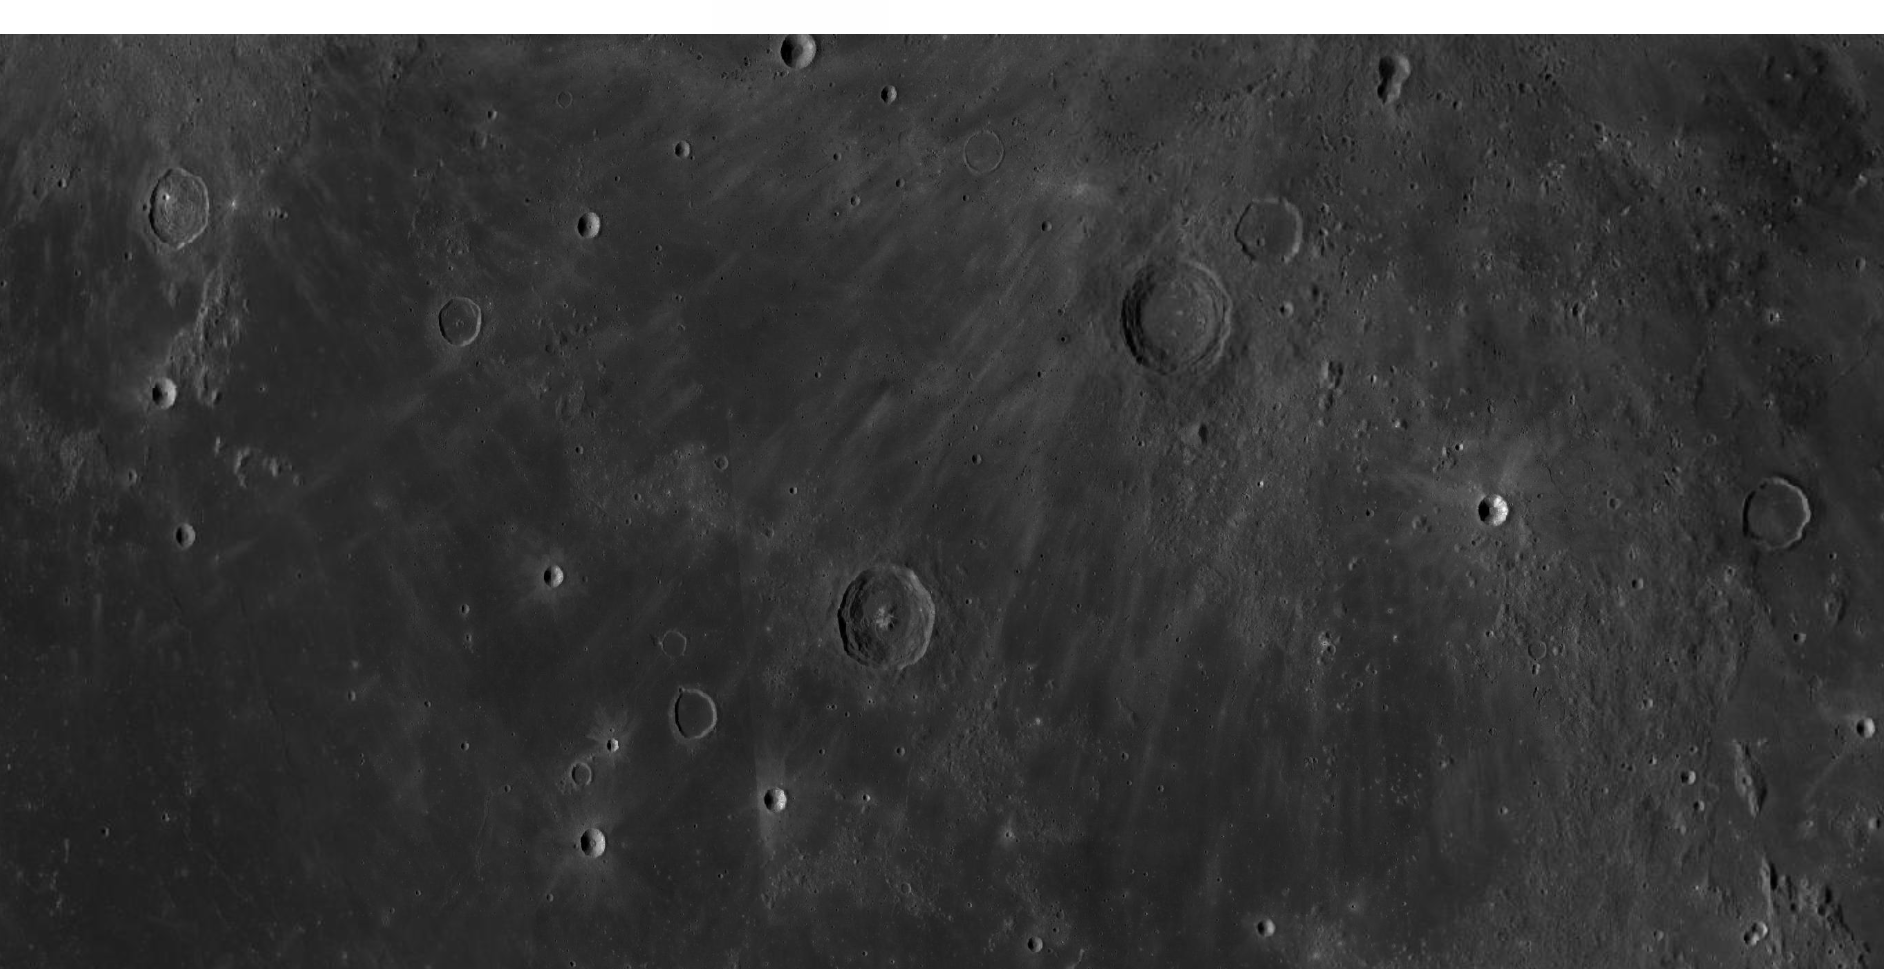crater: (798, 524, 1041, 713), (1440, 454, 1568, 576), (1725, 442, 1828, 572), (1219, 173, 1347, 276), (492, 513, 602, 629), (534, 795, 661, 890), (140, 506, 251, 606), (138, 147, 221, 273), (555, 180, 637, 284), (931, 112, 1029, 195), (636, 112, 724, 198), (651, 683, 733, 764), (1347, 49, 1428, 121), (427, 294, 508, 362), (642, 622, 703, 667), (1760, 298, 1807, 344), (1153, 772, 1184, 805), (1034, 201, 1062, 236), (219, 188, 247, 220), (808, 358, 831, 387)
